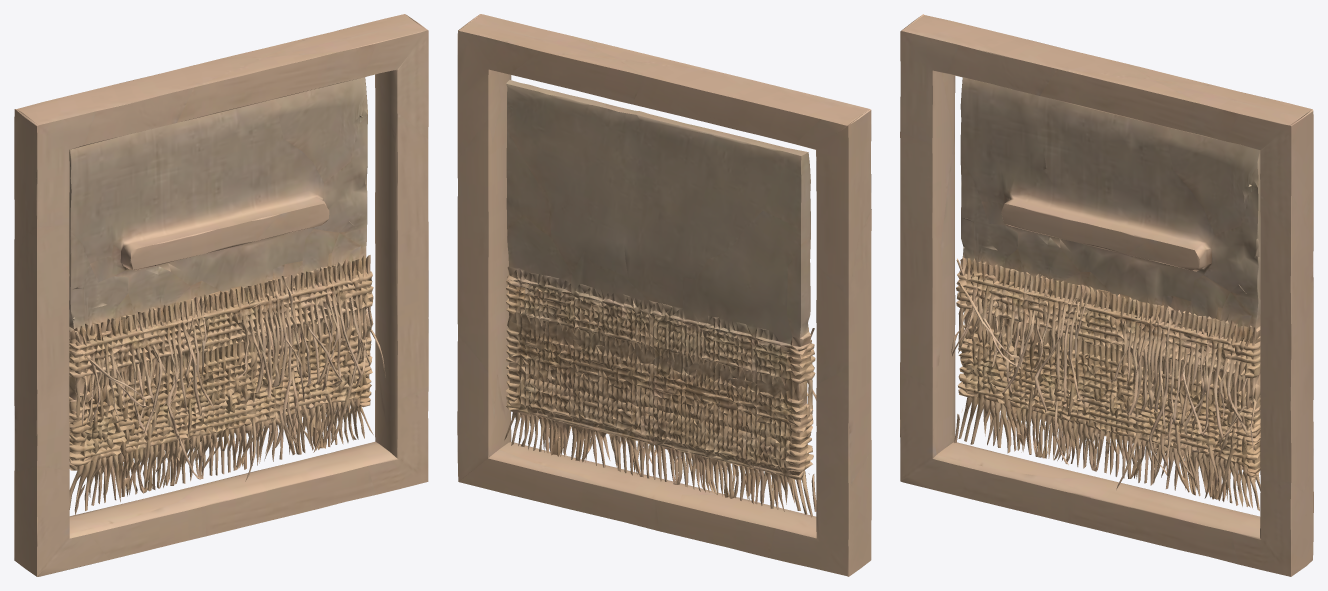
The model's file is cloth.glb.
The picture shows the model from 3 angles, left to right: view 1: azimuth 30°, elevation 25°; view 2: azimuth 150°, elevation 25°; view 3: azimuth 330°, elevation 25°; orthographic projection.
Parts seen in each view (by area): view 1: model; view 2: model; view 3: model.
Part boxes in pixels (x1,y1,x2,y2): model: [14, 14, 428, 576]; model: [457, 14, 871, 576]; model: [900, 14, 1313, 576].
Size of the model in its own units: 0.9072 by 1 by 0.1047.
Materials: 1 (1 with a texture image).
